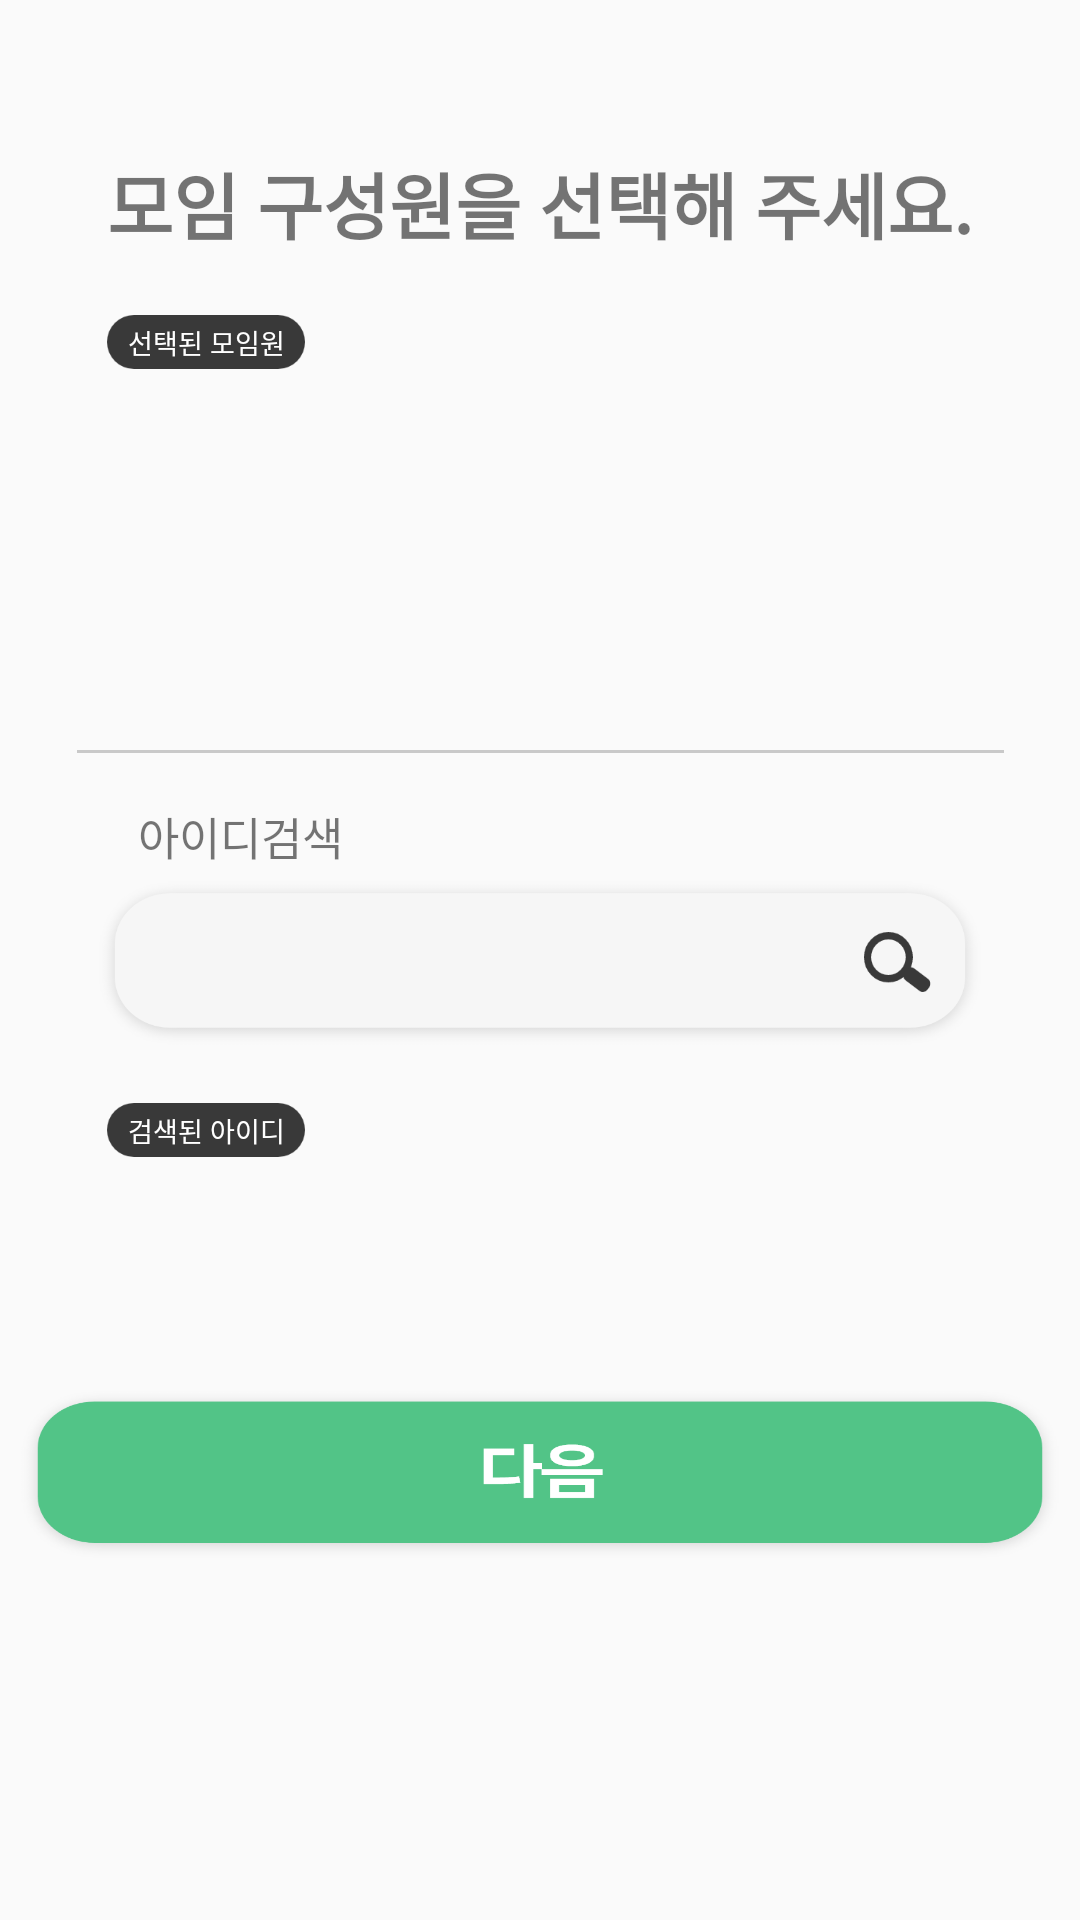

Icons on this 1080x1920 Android screen, each with the point to tap as point (x, y):
search: point (897, 962)
